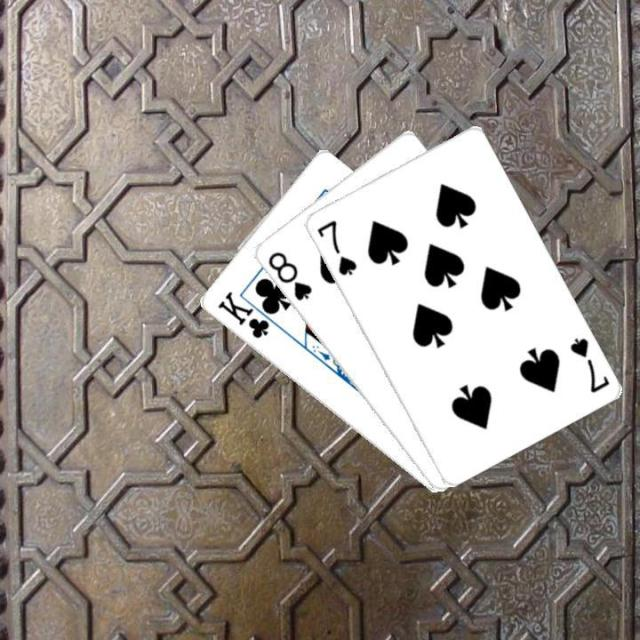7S: (565, 333, 611, 395), (312, 216, 358, 277)
8S: (263, 247, 314, 303)
KC: (213, 287, 283, 341)
